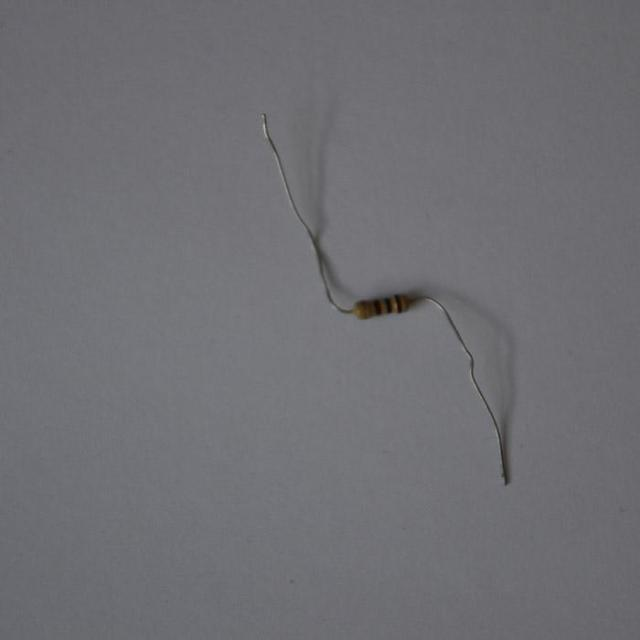Capacitor Electrolitico: (351, 288, 413, 322)
